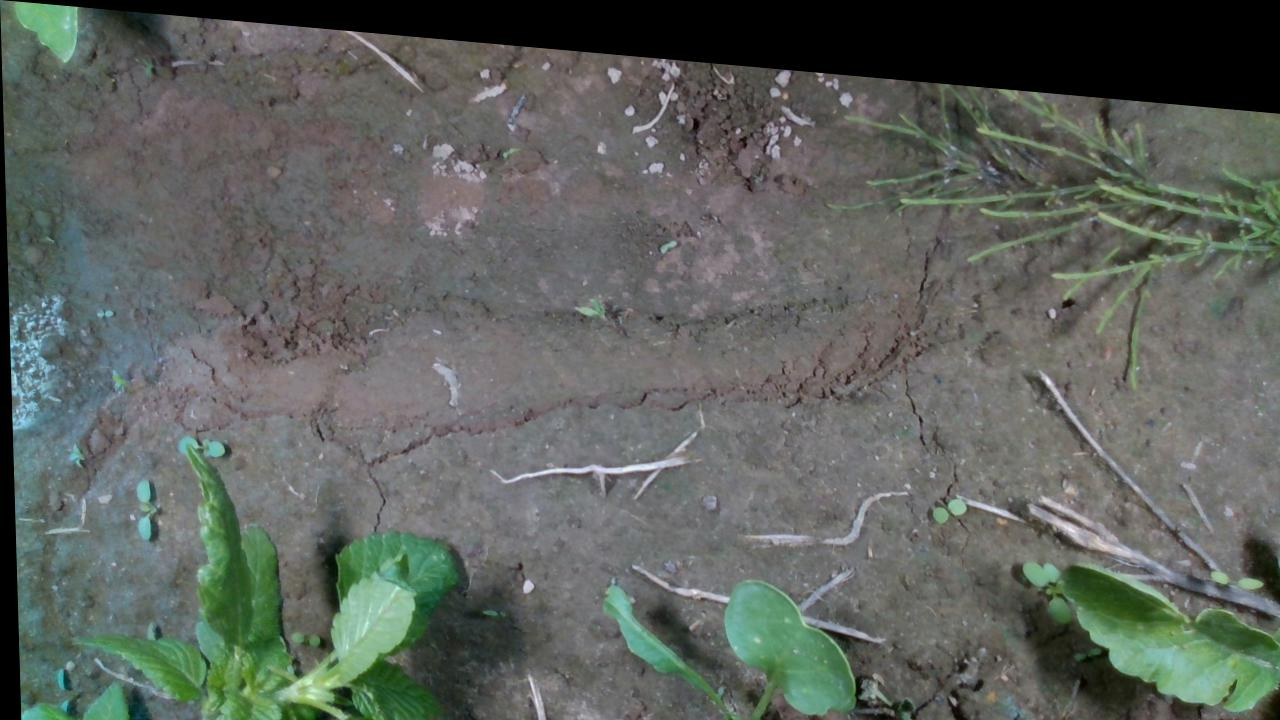weed: (130, 471, 149, 539), (1204, 545, 1261, 567), (927, 476, 966, 508), (63, 440, 84, 468), (285, 624, 317, 642), (93, 304, 114, 317)
